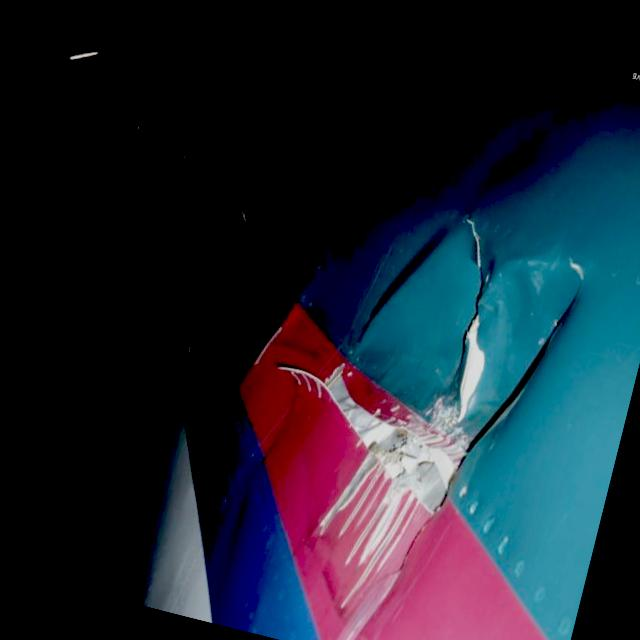crack: (425, 216, 518, 386)
dent: (353, 204, 467, 368), (462, 245, 564, 420)
